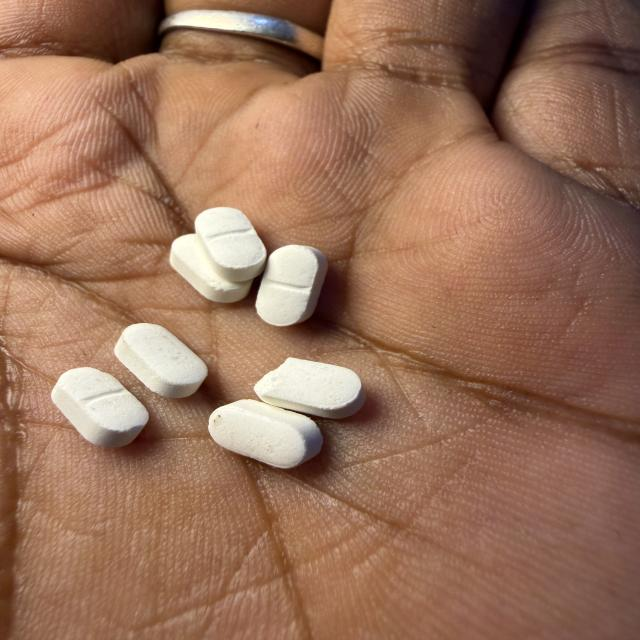pill: (209, 400, 322, 468), (52, 368, 148, 447), (115, 324, 207, 397), (255, 358, 365, 418), (256, 245, 327, 326), (170, 234, 252, 302), (195, 207, 266, 281)
